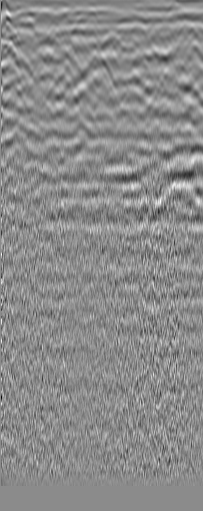오수: (15, 13, 35, 33)
우수: (175, 25, 195, 45)
